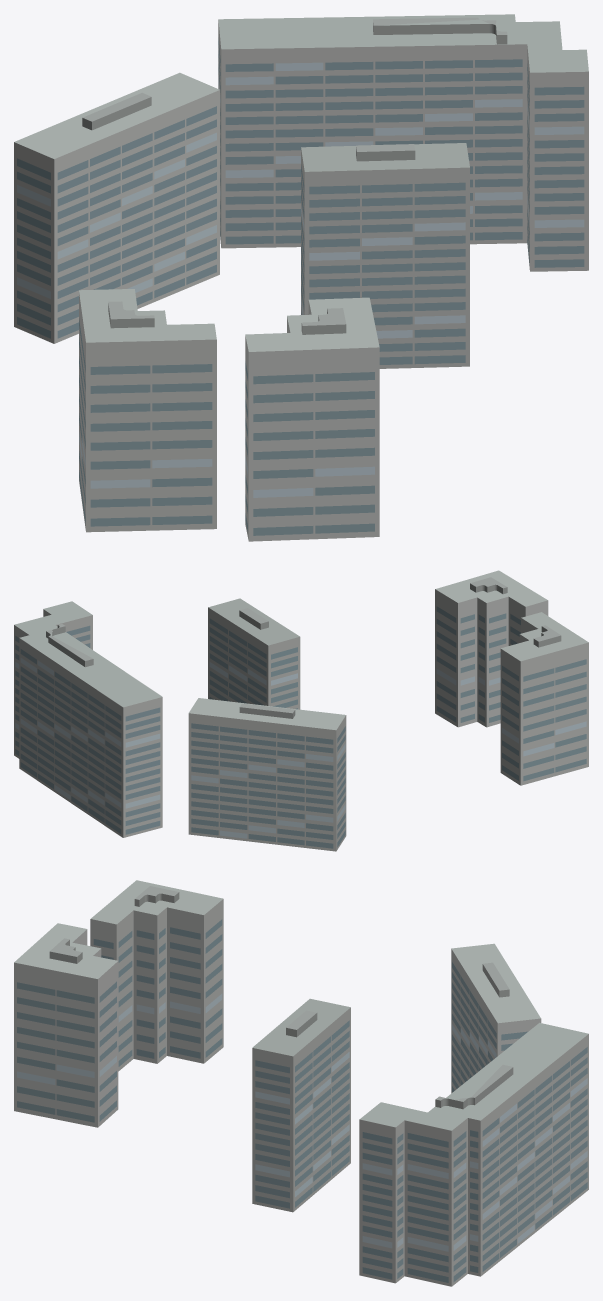
File: apt-a12125001.glb
The picture shows the model from 3 angles, top to bottom: view 1: azimuth 30°, elevation 25°; view 2: azimuth 150°, elevation 25°; view 3: azimuth 270°, elevation 25°; orthographic projection. The views are drawn at different scales.
Visible parts, largest first — view 1: apt-a12125001; view 2: apt-a12125001; view 3: apt-a12125001.
Part boxes in pixels (x1=…): apt-a12125001: x1=14, y1=14, x2=588, y2=541; apt-a12125001: x1=14, y1=570, x2=588, y2=851; apt-a12125001: x1=14, y1=880, x2=588, y2=1286.
Bounding box in the file's own units: 142 × 42 × 134.
